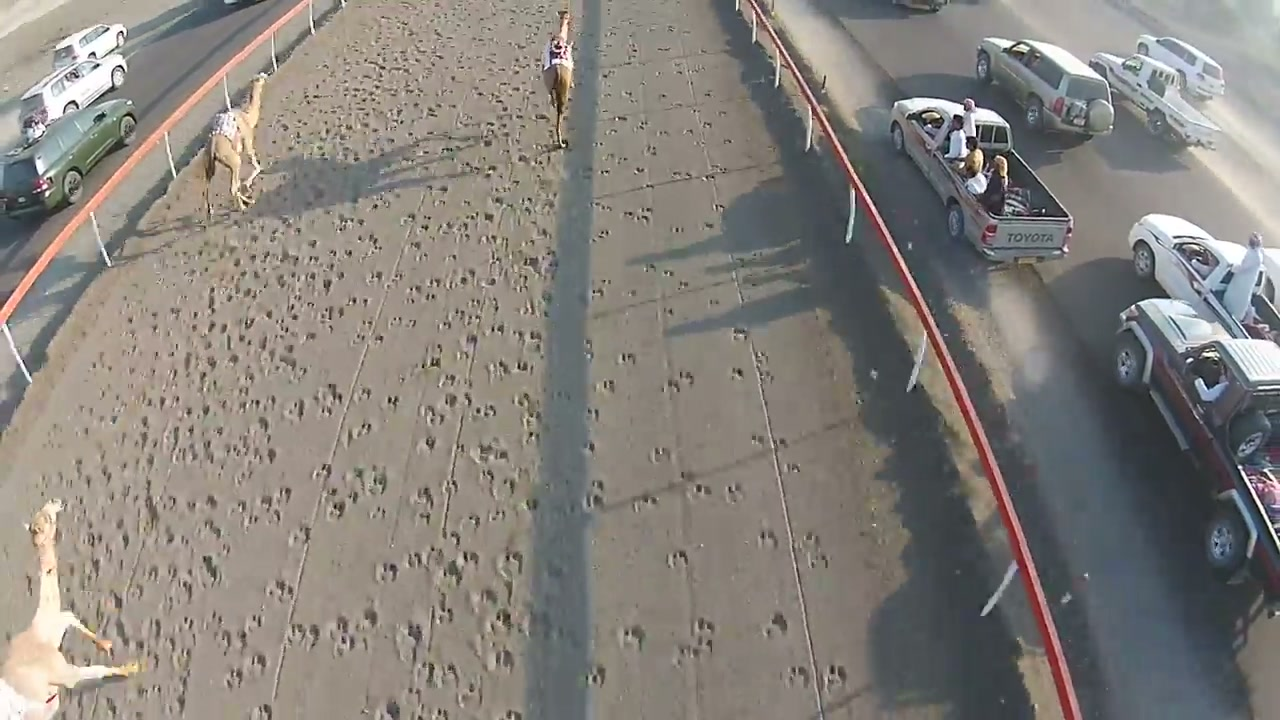animal_foot_print: (104, 151, 369, 709), (409, 135, 588, 719), (622, 70, 731, 688)
